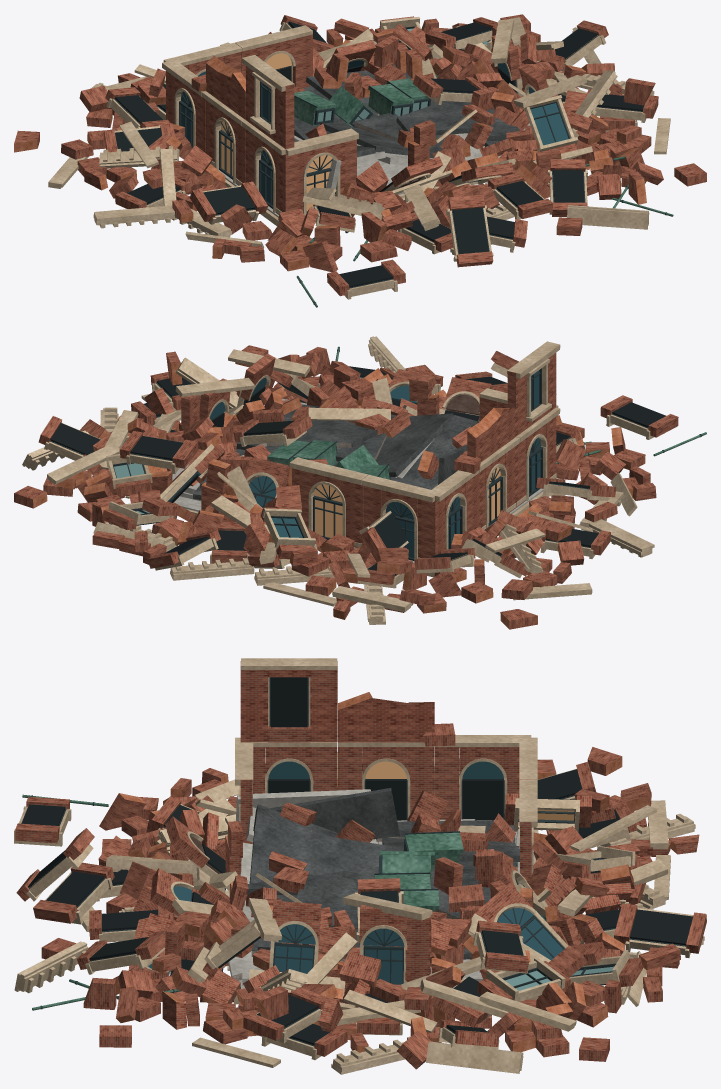
Rendered from DockPress_Ruins.glb.
3 views of the same model, one above another, from view 1: azimuth 30°, elevation 25°; view 2: azimuth 150°, elevation 25°; view 3: azimuth 270°, elevation 25° (orthographic). The views are drawn at different scales.
Visible parts, largest first — view 1: DockPress_Geometry; view 2: DockPress_Geometry; view 3: DockPress_Geometry.
Boxes of the visible parts, x1=… form: DockPress_Geometry: x1=14, y1=14, x2=706, y2=307; DockPress_Geometry: x1=14, y1=336, x2=706, y2=629; DockPress_Geometry: x1=14, y1=658, x2=706, y2=1074.
Size of the model in its own units: 29.02 by 7.05 by 25.71.
Materials: 17 (9 with a texture image).
